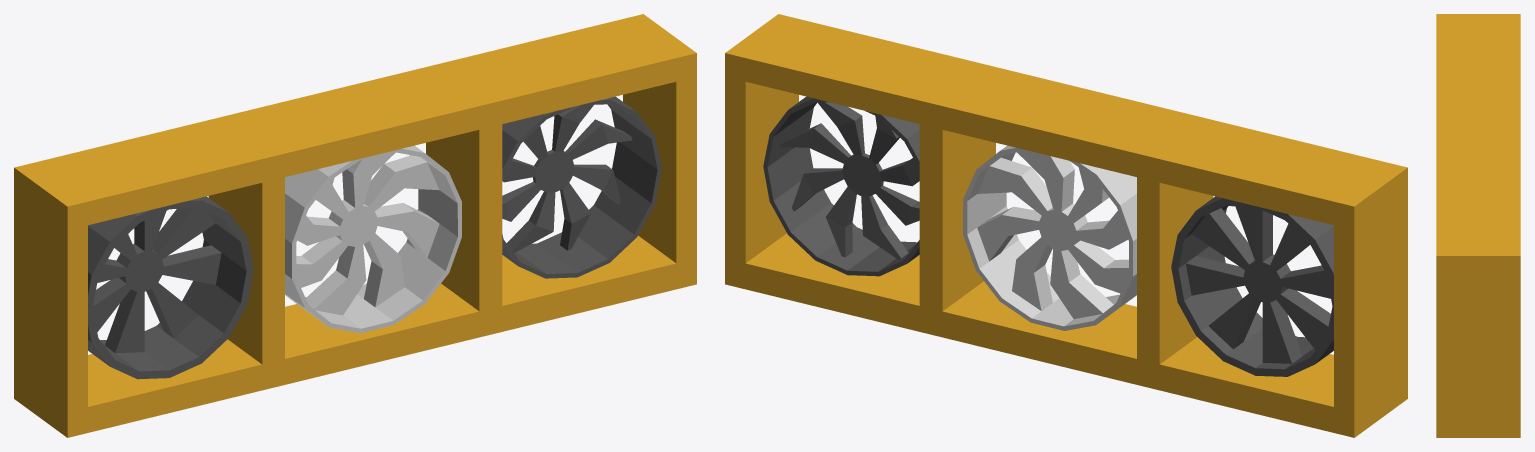
Rendered from Me_Rims_Exhibition_1.fbx.
3 renders of one model, left to right at view 1: azimuth 30°, elevation 25°; view 2: azimuth 150°, elevation 25°; view 3: azimuth 270°, elevation 25°, orthographic. The views are drawn at different scales.
Visible parts, largest first — view 1: Me_Rims_Exhibition_1; view 2: Me_Rims_Exhibition_1; view 3: Me_Rims_Exhibition_1.
Part boxes in pixels (x1,y1,x2,y2): Me_Rims_Exhibition_1: (14,14,696,437); Me_Rims_Exhibition_1: (725,14,1407,437); Me_Rims_Exhibition_1: (1436,14,1520,437).
Size of the model in its own units: 1502 by 221 by 528.
